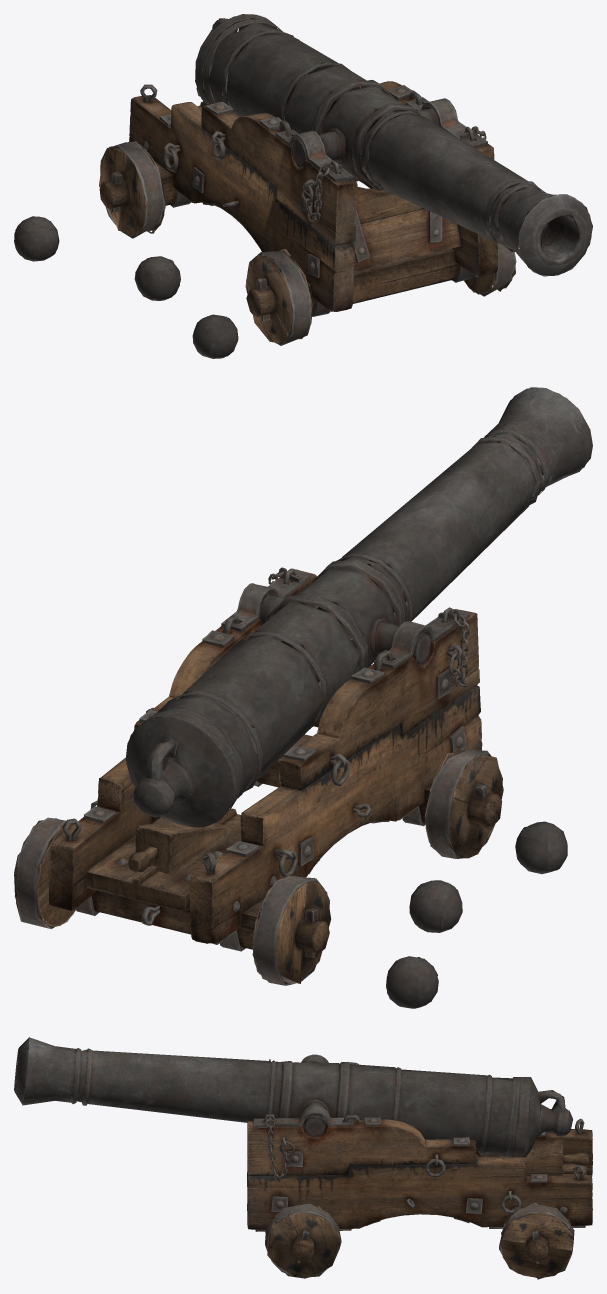
File: cannon_01.gltf
3 renders of one model, top to bottom at view 1: azimuth 30°, elevation 25°; view 2: azimuth 150°, elevation 25°; view 3: azimuth 270°, elevation 25°, orthographic. The views are drawn at different scales.
Visible parts, largest first — view 1: cannon_01_frame, cannon_01_barrel, cannon_01_wheel_02, cannon_01_wheel_01, cannon_01_ball_03, cannon_01_ball_02, cannon_01_ball_01, cannon_01_wheel_03; view 2: cannon_01_frame, cannon_01_barrel, cannon_01_wheel_01, cannon_01_wheel_02, cannon_01_wheel_04, cannon_01_pusherblock, cannon_01_ball_02, cannon_01_ball_03, cannon_01_ball_01; view 3: cannon_01_barrel, cannon_01_frame, cannon_01_wheel_04, cannon_01_wheel_03, cannon_01_pusherblock.
Part boxes in pixels (box(x1,y1,x2,y2)): cannon_01_frame: box(99, 74, 498, 321); cannon_01_barrel: box(195, 14, 592, 276); cannon_01_wheel_02: box(99, 141, 165, 238); cannon_01_wheel_01: box(245, 249, 312, 345); cannon_01_ball_03: box(14, 216, 59, 261); cannon_01_ball_02: box(134, 256, 180, 300); cannon_01_ball_01: box(192, 314, 238, 358); cannon_01_wheel_03: box(463, 242, 516, 296); cannon_01_frame: box(14, 567, 502, 957); cannon_01_barrel: box(125, 387, 592, 827); cannon_01_wheel_01: box(425, 749, 503, 858); cannon_01_wheel_02: box(252, 875, 331, 985); cannon_01_wheel_04: box(14, 817, 75, 929); cannon_01_pusherblock: box(128, 821, 227, 874); cannon_01_ball_02: box(409, 880, 462, 932); cannon_01_ball_03: box(386, 956, 438, 1008); cannon_01_ball_01: box(515, 821, 567, 874); cannon_01_barrel: box(14, 1037, 572, 1157); cannon_01_frame: box(247, 1054, 592, 1263); cannon_01_wheel_04: box(499, 1203, 574, 1279); cannon_01_wheel_03: box(265, 1203, 341, 1278); cannon_01_pusherblock: box(499, 1139, 588, 1175).
Size of the model in its own units: 1.28 by 0.8631 by 2.3.
Materials: 1 (1 with a texture image).
